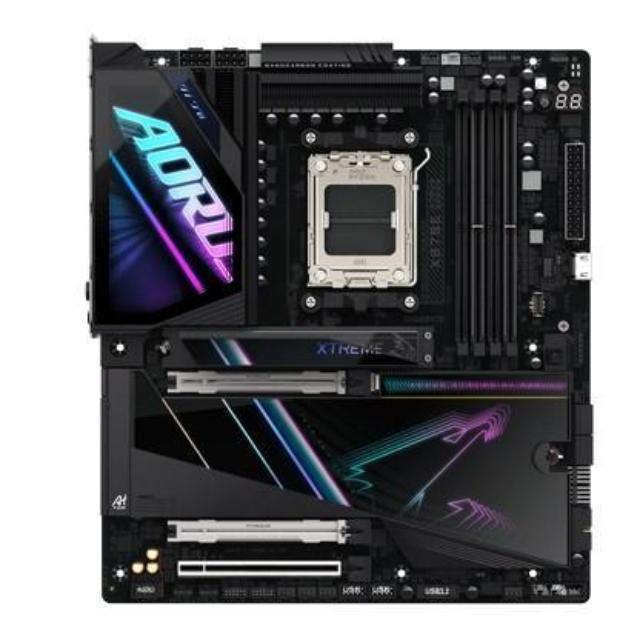Mainboard: (86, 31, 592, 606)
